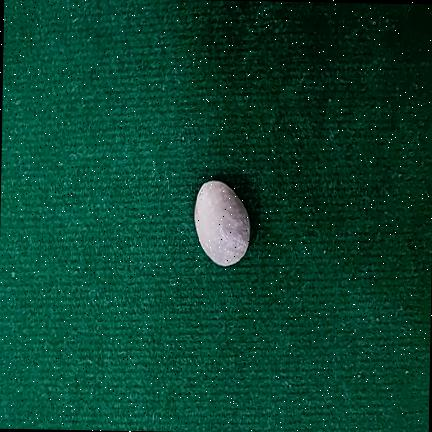immature: (194, 180, 250, 266)
